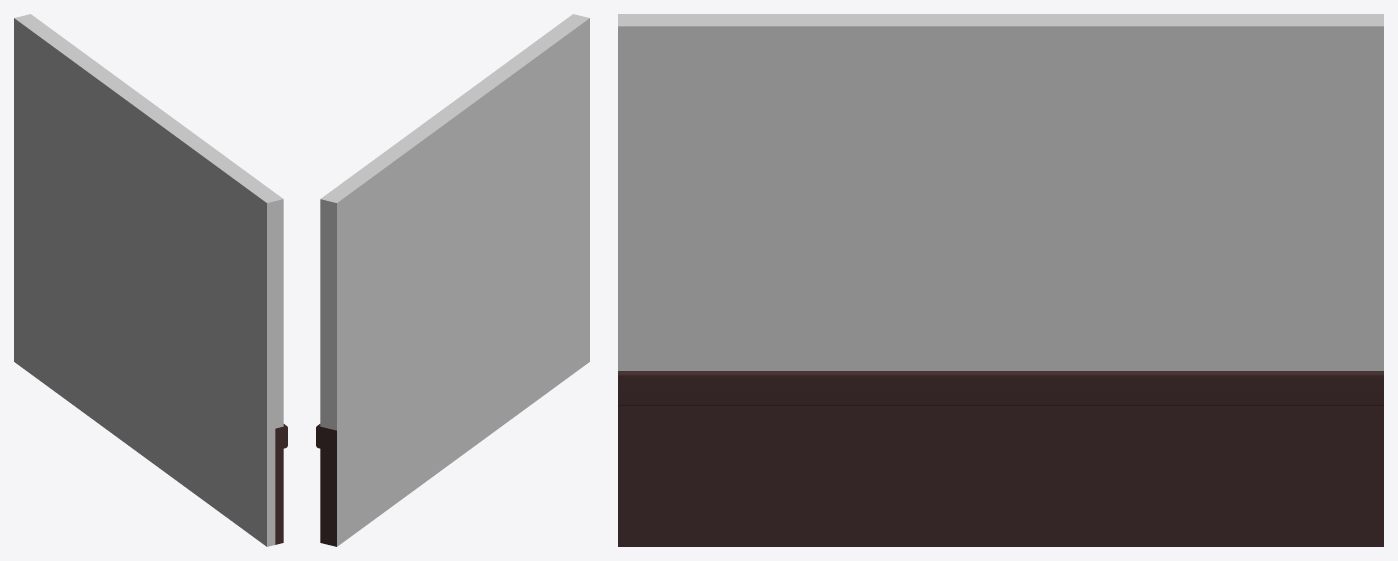
File: HallwayWall.fbx
3 renders of one model, left to right at view 1: azimuth 30°, elevation 25°; view 2: azimuth 150°, elevation 25°; view 3: azimuth 270°, elevation 25°, orthographic. The views are drawn at different scales.
Parts seen in each view (by area): view 1: HallwayWall; view 2: HallwayWall; view 3: HallwayWall.
Boxes of the visible parts, x1,y1,x2,y2 form: HallwayWall: [14, 14, 287, 546]; HallwayWall: [316, 14, 589, 546]; HallwayWall: [618, 14, 1383, 546].
Bounding box in the file's own units: 0.1905 × 3 × 4.
